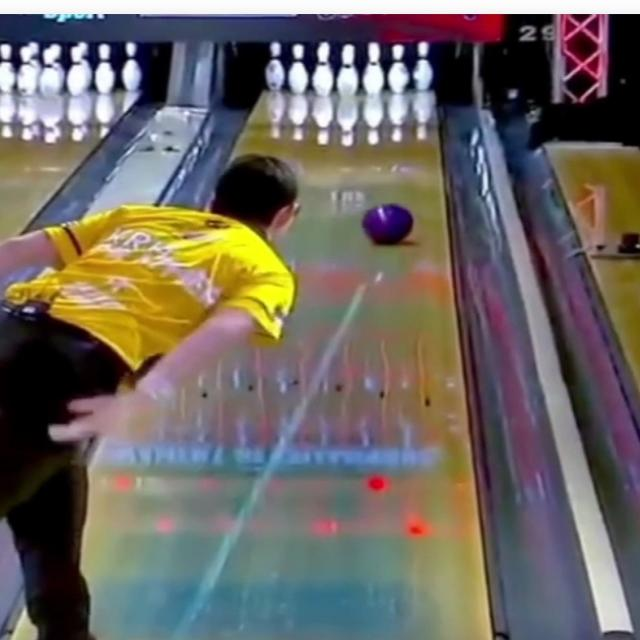alley: (82, 91, 490, 639)
balls: (362, 204, 412, 244)
bottle: (264, 41, 434, 96)
